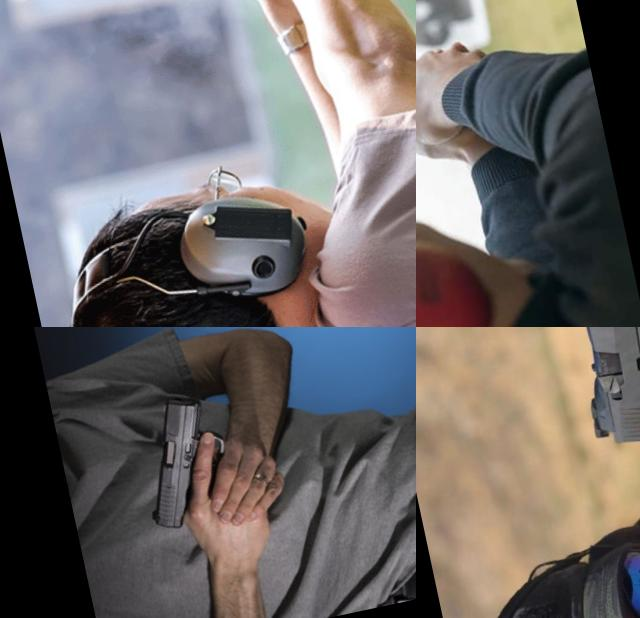handgun: (125, 378, 252, 536), (536, 327, 640, 493), (144, 0, 359, 67), (416, 45, 461, 139)
